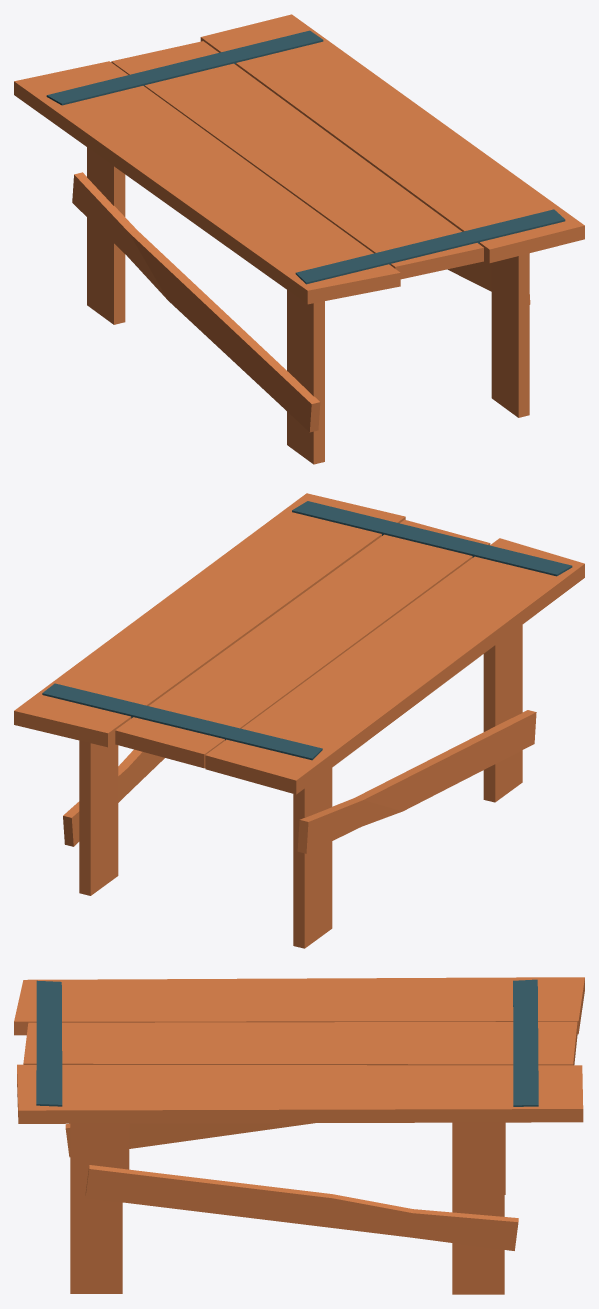
File: Table.fbx
The picture shows the model from 3 angles, top to bottom: view 1: azimuth 30°, elevation 25°; view 2: azimuth 150°, elevation 25°; view 3: azimuth 270°, elevation 25°; orthographic projection. The views are drawn at different scales.
Visible parts, largest first — view 1: Table; view 2: Table; view 3: Table.
Boxes of the visible parts, bbox=[...] form: Table: bbox=[14, 14, 584, 464]; Table: bbox=[14, 493, 584, 948]; Table: bbox=[14, 977, 584, 1294].
Bounding box in the file's own units: 136 × 94.19 × 245.
